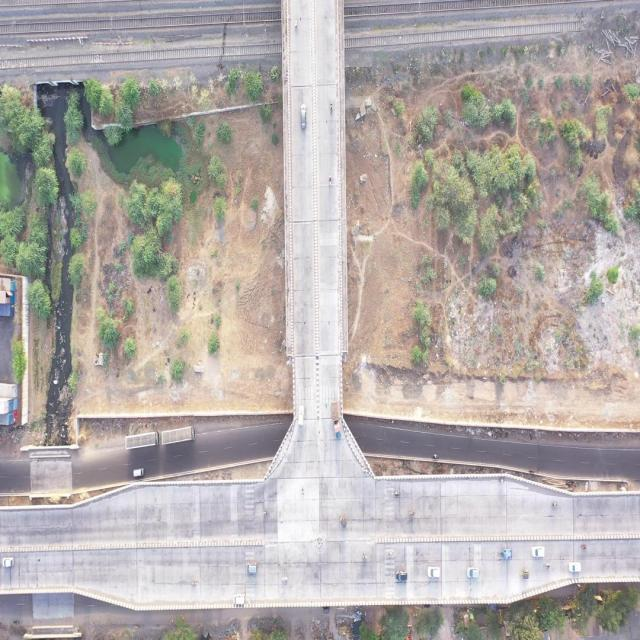3W: (517, 560, 530, 583), (338, 509, 348, 530)
Cars: (423, 558, 442, 583), (298, 100, 311, 131), (230, 586, 246, 611), (397, 562, 412, 586), (243, 557, 260, 578), (464, 563, 482, 582), (566, 555, 581, 577), (0, 551, 14, 574), (295, 399, 305, 431), (529, 546, 548, 559), (130, 466, 144, 482)
LCV: (498, 538, 514, 566)
M2W: (260, 500, 270, 522), (392, 482, 402, 504), (185, 578, 200, 591), (298, 482, 308, 501), (362, 550, 372, 569), (405, 505, 416, 520), (281, 571, 289, 589), (327, 174, 336, 190), (292, 18, 301, 34), (328, 94, 334, 117), (549, 498, 559, 511), (578, 541, 588, 554), (430, 450, 442, 460), (385, 547, 393, 558)
MAV: (162, 418, 197, 451), (121, 428, 160, 453), (325, 397, 343, 445)
